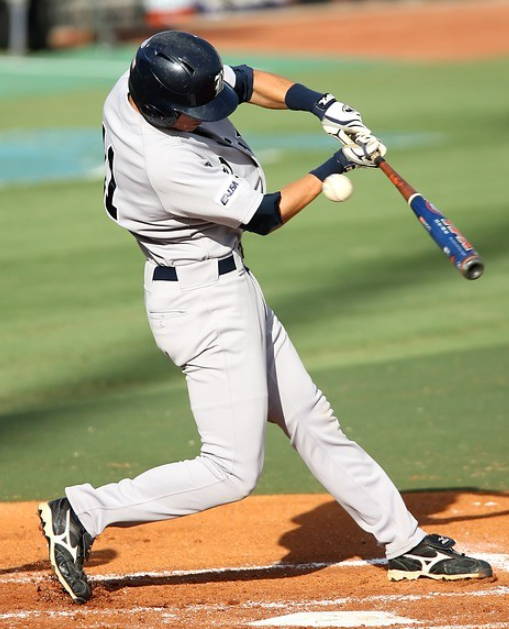ball: (322, 173, 352, 203)
